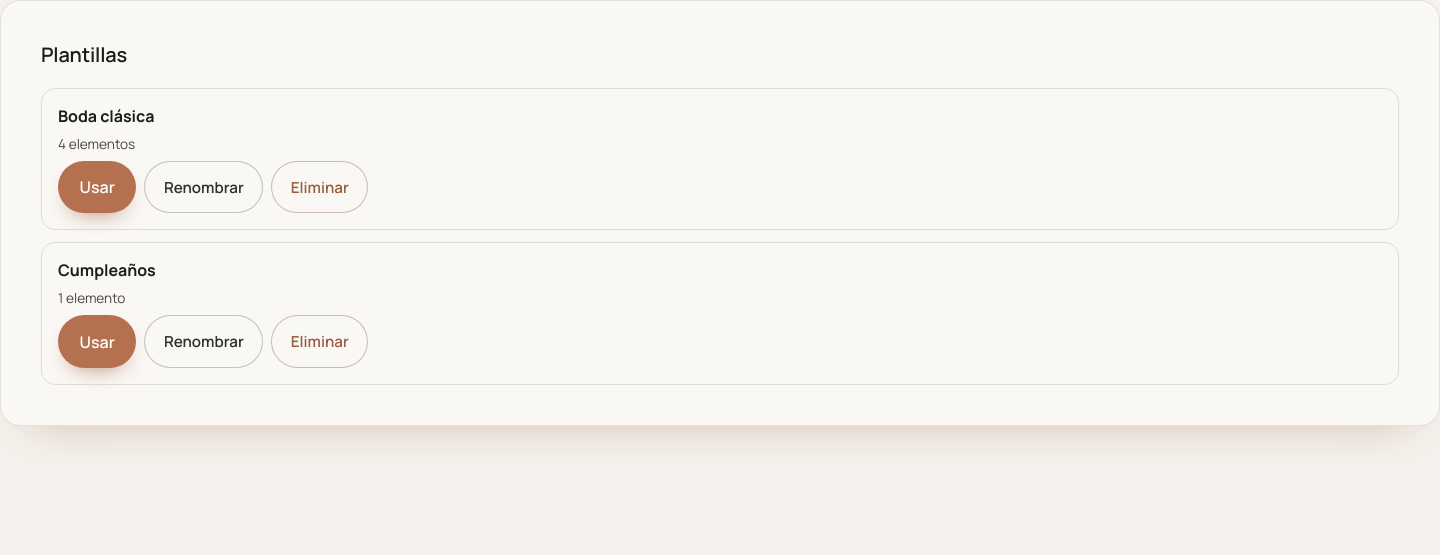
Test case: TemplateManager (DECOR-44) › renombra una plantilla en línea y actualiza la tarjeta
Step 1. Click the button with aria-label "Renombrar plantilla" → x=204, y=187, box [144, 161, 263, 213]
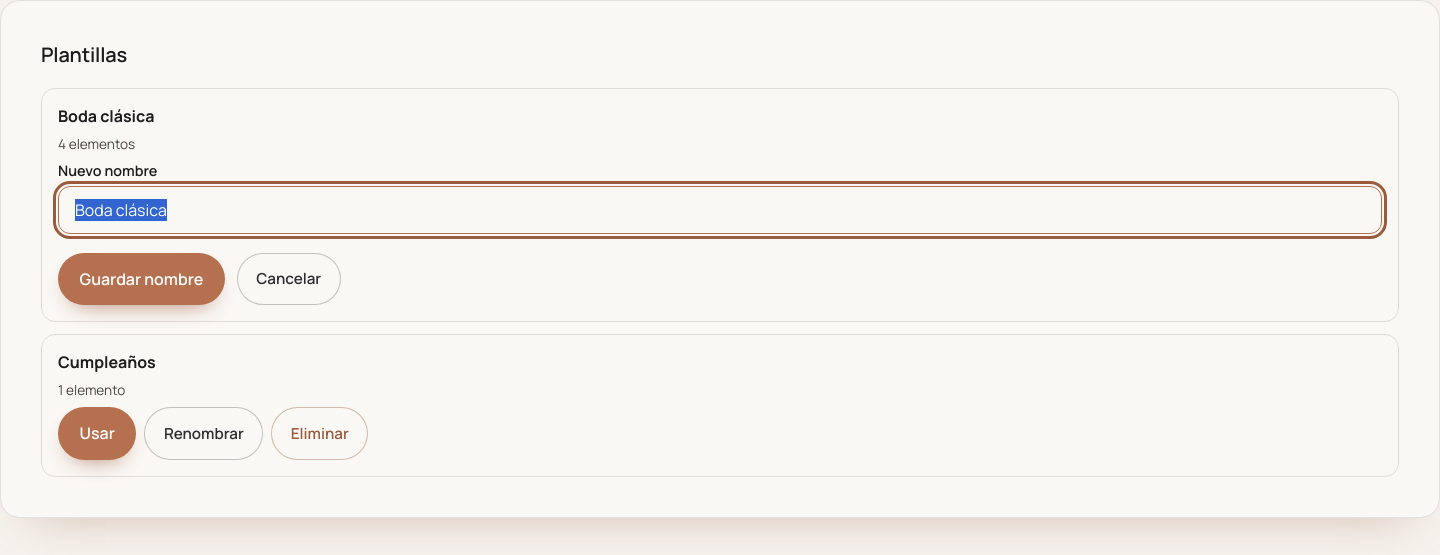
Result: the field labelled "Nuevo nombre" holds "Boda clásica"
Step 2. Replace the text in the field labelled "Nuevo nombre" with "Boda moderna" → x=720, y=210, box [58, 186, 1382, 234]
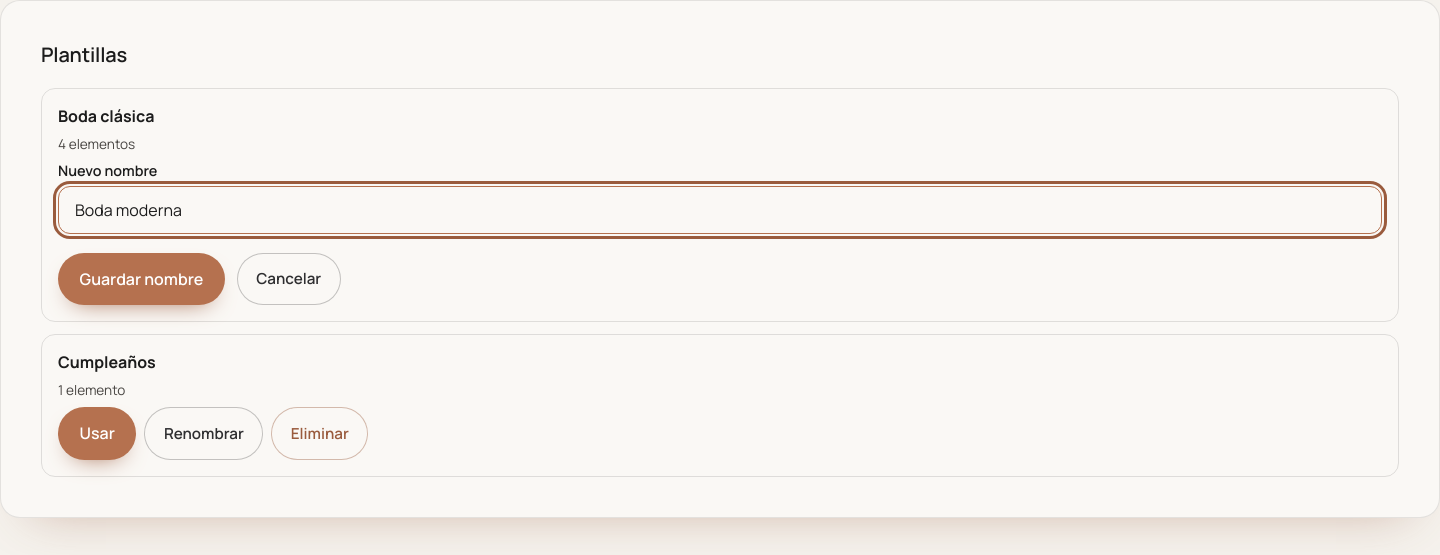
Step 3. Click the button "Guardar nombre" → x=141, y=279, box [58, 253, 225, 305]
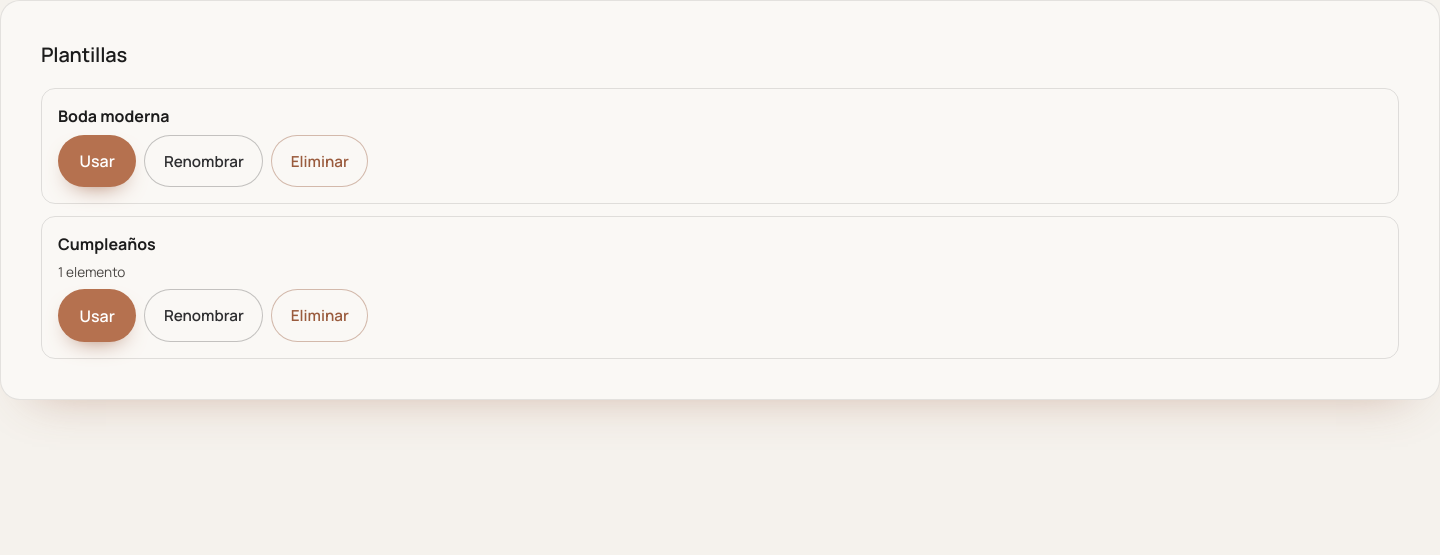
Result: the heading "Boda moderna" is shown at [58, 105, 170, 127]
